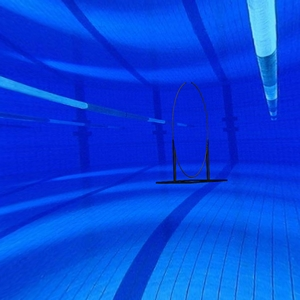circle: (154, 80, 230, 185)
